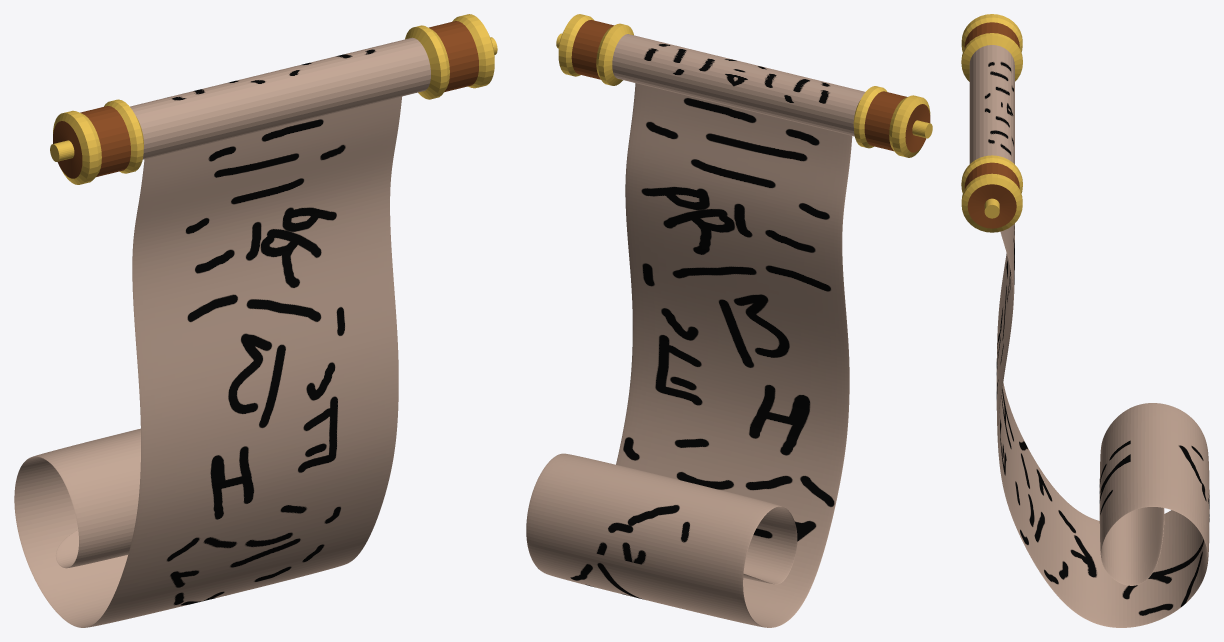
The model's file is scroll.glb.
3 renders of one model, left to right at view 1: azimuth 30°, elevation 25°; view 2: azimuth 150°, elevation 25°; view 3: azimuth 270°, elevation 25°, orthographic. The views are drawn at different scales.
Parts seen in each view (by area): view 1: Plane, Cylinder; view 2: Plane, Cylinder; view 3: Plane, Cylinder.
Part boxes in pixels (<box>): Plane: <box>14,96,402,627</box>; Cylinder: <box>50,14,497,184</box>; Plane: <box>526,83,852,627</box>; Cylinder: <box>556,14,932,157</box>; Plane: <box>996,223,1209,627</box>; Cylinder: <box>961,14,1022,232</box>.
Size of the model in its own units: 0.8366 by 1.06 by 0.4965.
3 materials, 1 textured.
